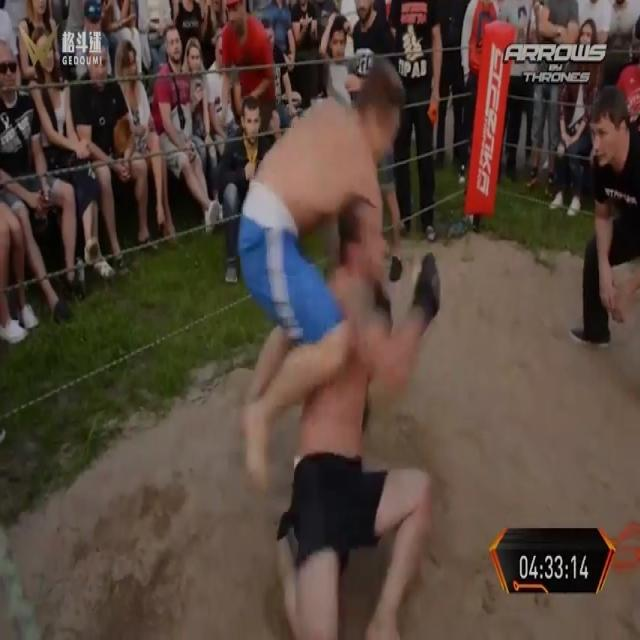fight: (225, 12, 482, 639)
non-fight: (0, 32, 52, 344), (384, 0, 446, 243), (498, 0, 546, 189)
